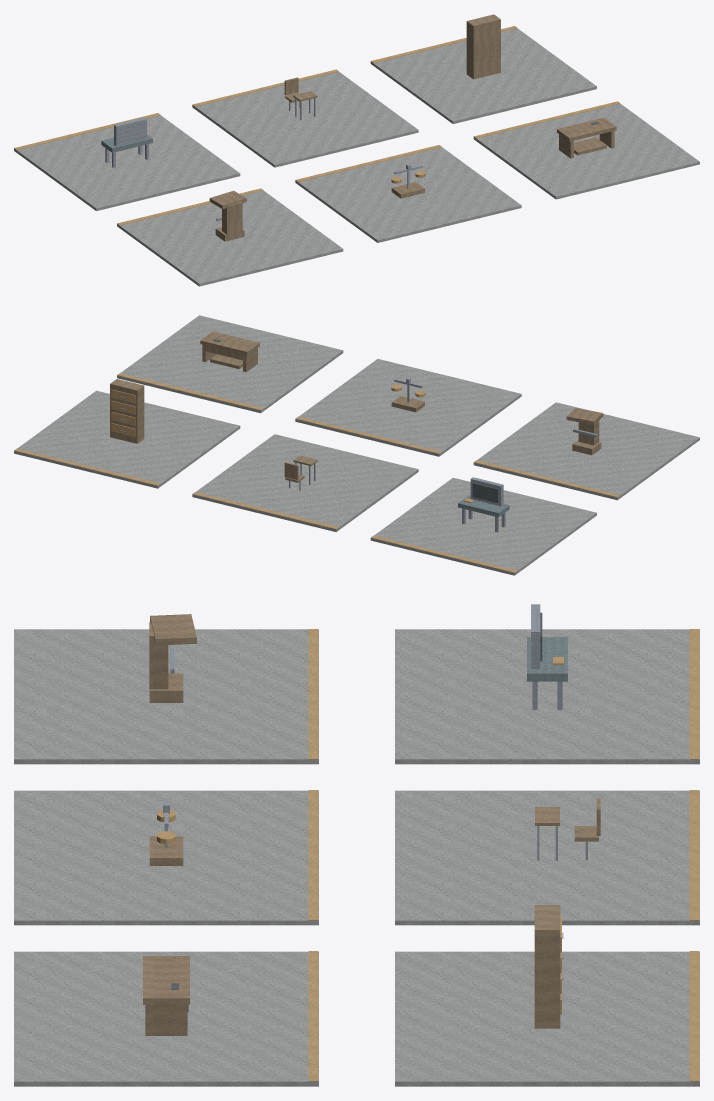
The model's file is level_blockout_kit_college_p01.glb.
The picture shows the model from 3 angles, top to bottom: view 1: azimuth 30°, elevation 25°; view 2: azimuth 150°, elevation 25°; view 3: azimuth 270°, elevation 25°; orthographic projection. The views are drawn at different scales.
Visible parts, largest first — view 1: level_blockout_kit_college_p01; view 2: level_blockout_kit_college_p01; view 3: level_blockout_kit_college_p01.
Part boxes in pixels (x1,y1,x2,y2): level_blockout_kit_college_p01: [14, 14, 699, 286]; level_blockout_kit_college_p01: [14, 315, 699, 575]; level_blockout_kit_college_p01: [14, 604, 699, 1086].
Bounding box in the file's own units: 19.65 × 2.11 × 12.6.
Materials: 7 (7 with a texture image).
